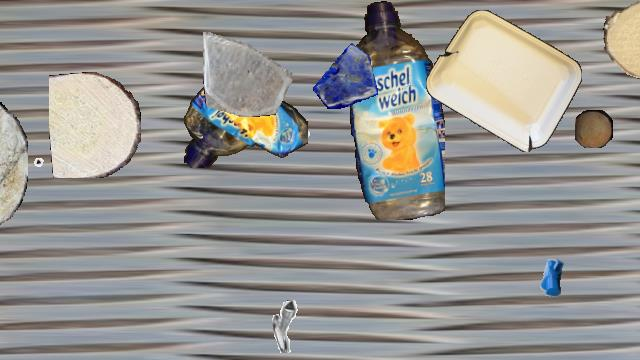glass: (203, 27, 293, 117), (312, 42, 378, 108)
metal: (373, 98, 433, 158), (522, 246, 580, 304), (272, 299, 326, 353), (274, 100, 314, 140), (30, 156, 70, 196)
plastic: (426, 10, 582, 152), (350, 1, 444, 219), (182, 77, 308, 167)
wood: (49, 72, 141, 178), (0, 93, 27, 245), (603, 1, 640, 79), (575, 110, 613, 148)
